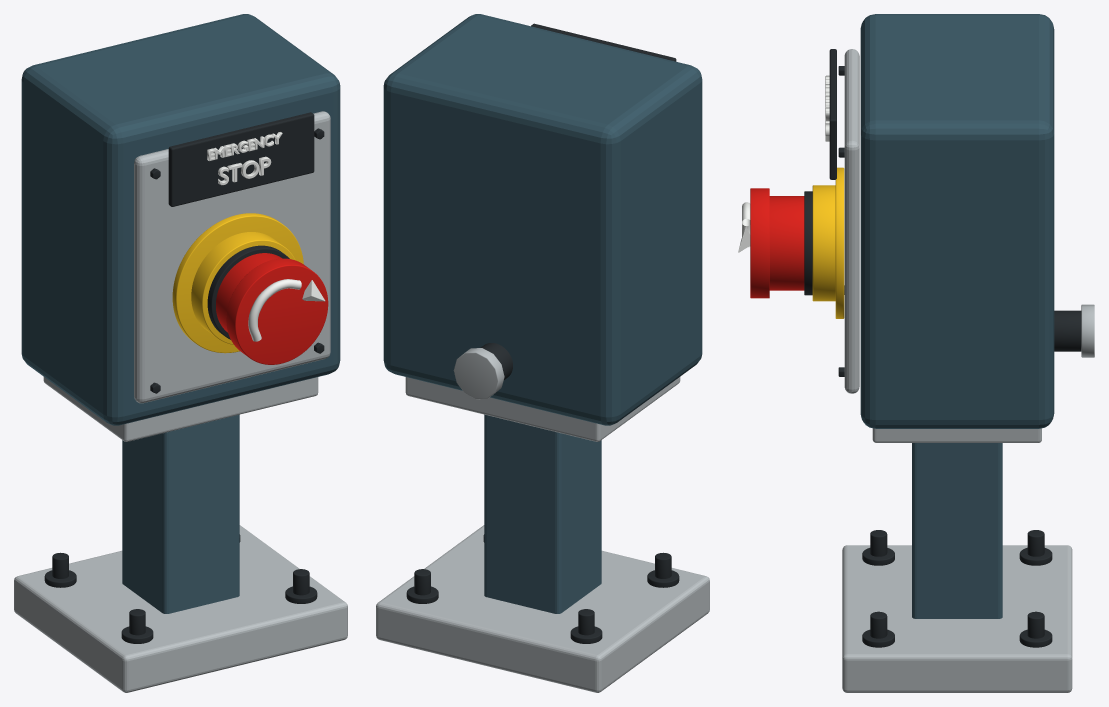
File: emergency_stop_station.glb
3 views of the same model, side by side, from view 1: azimuth 30°, elevation 25°; view 2: azimuth 150°, elevation 25°; view 3: azimuth 270°, elevation 25° (orthographic). The views are drawn at different scales.
Parts seen in each view (by area): view 1: ENCLOSURE_body, FOOT, ENCLOSURE_door, PEDESTAL, ESTOP_legend_plate, KIN_estop_mushroom_cap, ESTOP_yellow_backplate, PEDESTAL_mounting_flange, ESTOP_contact_block, KIN_estop, ESTOP_bezel, KIN_estop_twist_arrow (+2 smaller); view 2: ENCLOSURE_body, FOOT, PEDESTAL, PEDESTAL_mounting_flange, ENCLOSURE_rear_gland_locknut, ESTOP_legend_plate; view 3: ENCLOSURE_body, FOOT, PEDESTAL, ENCLOSURE_door, KIN_estop, ESTOP_contact_block, PEDESTAL_mounting_flange, KIN_estop_mushroom_cap, ESTOP_yellow_backplate, ENCLOSURE_rear_cable_gland, ESTOP_legend_plate, ESTOP_bezel (+1 smaller).
Part boxes in pixels (<box>): ENCLOSURE_body: <box>21,14,340,425</box>; FOOT: <box>14,525,347,692</box>; ENCLOSURE_door: <box>134,111,330,403</box>; PEDESTAL: <box>122,414,239,613</box>; ESTOP_legend_plate: <box>168,112,314,206</box>; KIN_estop_mushroom_cap: <box>226,258,328,364</box>; ESTOP_yellow_backplate: <box>172,213,303,353</box>; PEDESTAL_mounting_flange: <box>43,377,318,441</box>; ESTOP_contact_block: <box>191,232,295,344</box>; KIN_estop: <box>216,253,282,332</box>; ESTOP_bezel: <box>207,245,289,339</box>; KIN_estop_twist_arrow: <box>248,279,301,341</box>; ENCLOSURE_body: <box>383,14,702,425</box>; FOOT: <box>376,525,709,692</box>; PEDESTAL: <box>484,414,601,613</box>; PEDESTAL_mounting_flange: <box>405,377,680,441</box>; ENCLOSURE_rear_gland_locknut: <box>453,348,504,399</box>; ESTOP_legend_plate: <box>531,23,676,61</box>; ENCLOSURE_body: <box>860,14,1054,428</box>; FOOT: <box>842,545,1072,692</box>; PEDESTAL: <box>912,443,1002,618</box>; ENCLOSURE_door: <box>844,49,859,393</box>; KIN_estop: <box>769,196,804,290</box>; ESTOP_contact_block: <box>812,185,835,301</box>; PEDESTAL_mounting_flange: <box>872,428,1041,442</box>; KIN_estop_mushroom_cap: <box>750,188,769,298</box>; ESTOP_yellow_backplate: <box>835,167,844,318</box>; ENCLOSURE_rear_cable_gland: <box>1054,310,1081,351</box>; ESTOP_legend_plate: <box>829,49,836,179</box>; ESTOP_bezel: <box>804,191,812,295</box>.
Bounding box in the file's own units: 0.46 × 1.04 × 0.5891.
